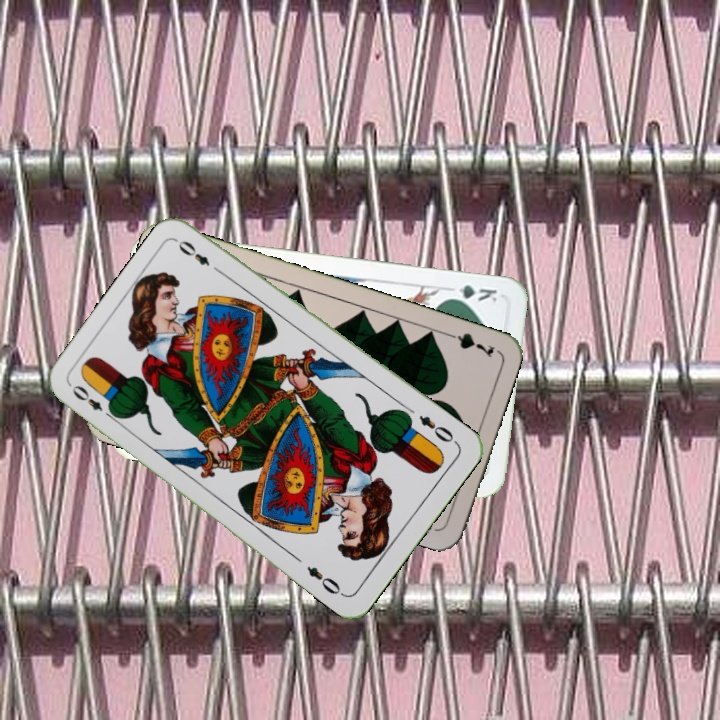EO: (67, 381, 118, 423), (414, 411, 460, 447)
G7: (440, 328, 497, 361)
GK: (442, 281, 500, 305)
